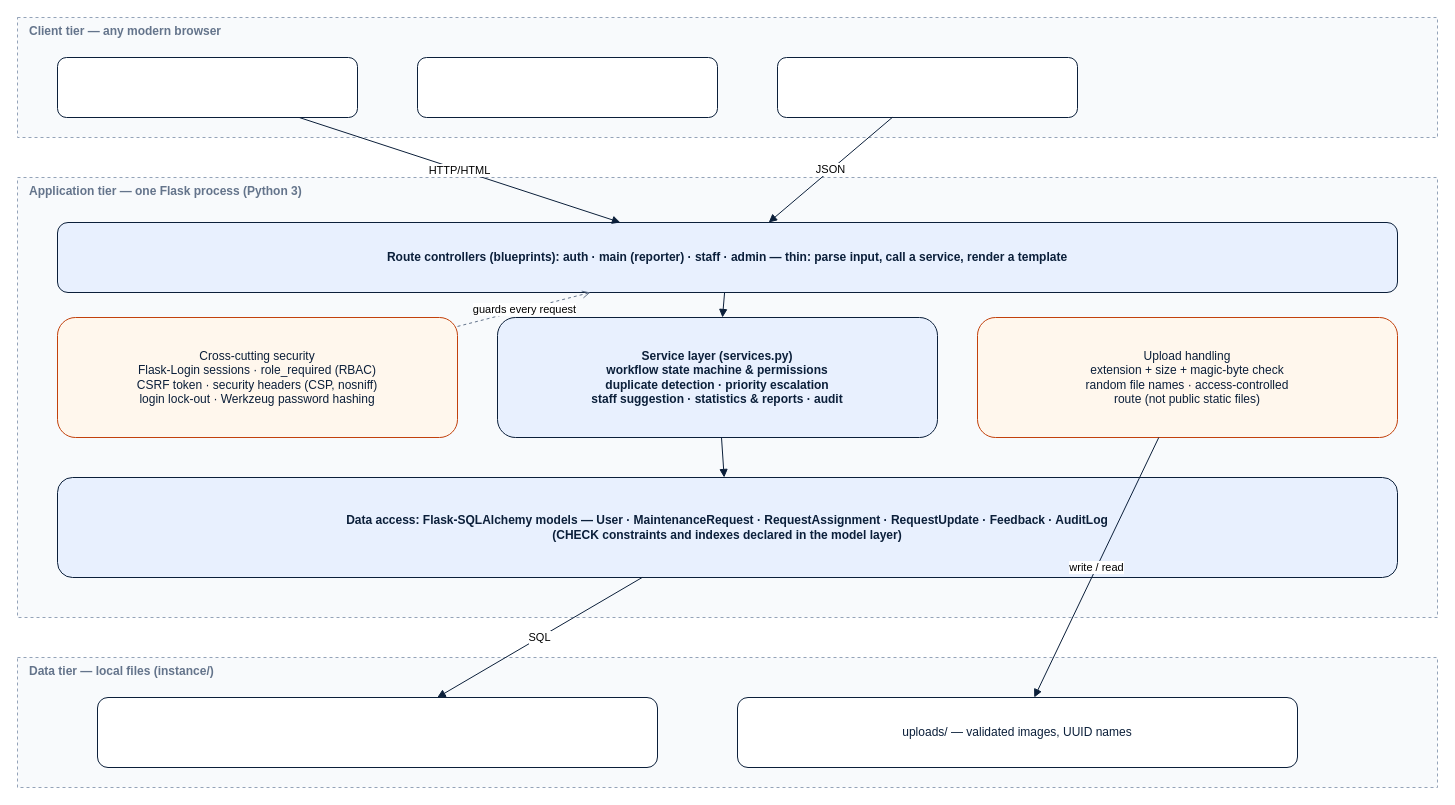
This 1455x805 diagram has some shape labels left out. The centre of each missing label's shape, as x and y in pixels:
Chart.js dashboards (fetch /admin/api/stats): the point at 927,87
HTML5 templates (Jinja2) Bootstrap 5 · responsive layout: the point at 207,87
JavaScript (ES6): duplicate hint, image pre-check, form UX: the point at 567,87
SQLite database campuscare.db (swap by DATABASE_URL for PostgreSQL / MySQL): the point at 377,732
